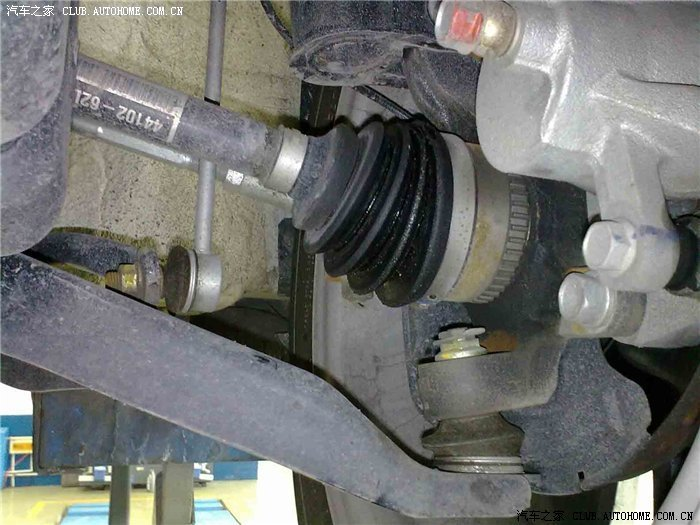oil: (303, 106, 452, 310), (23, 220, 161, 295)
